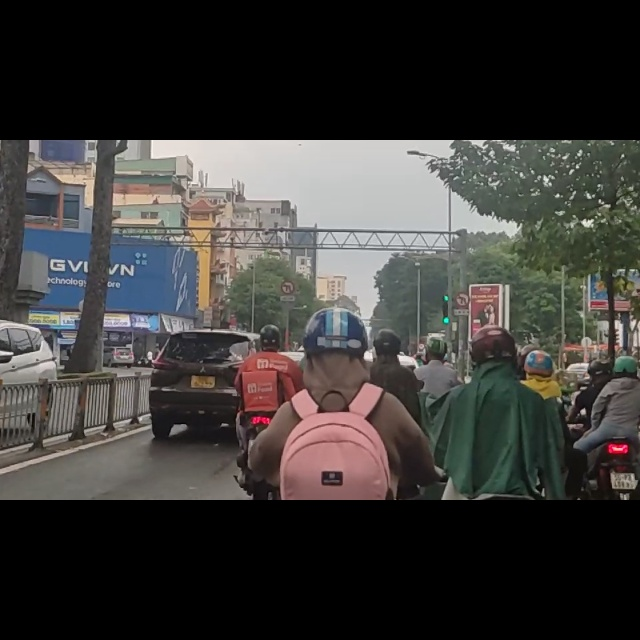bien_cam: (455, 269, 471, 296), (280, 249, 295, 273)
